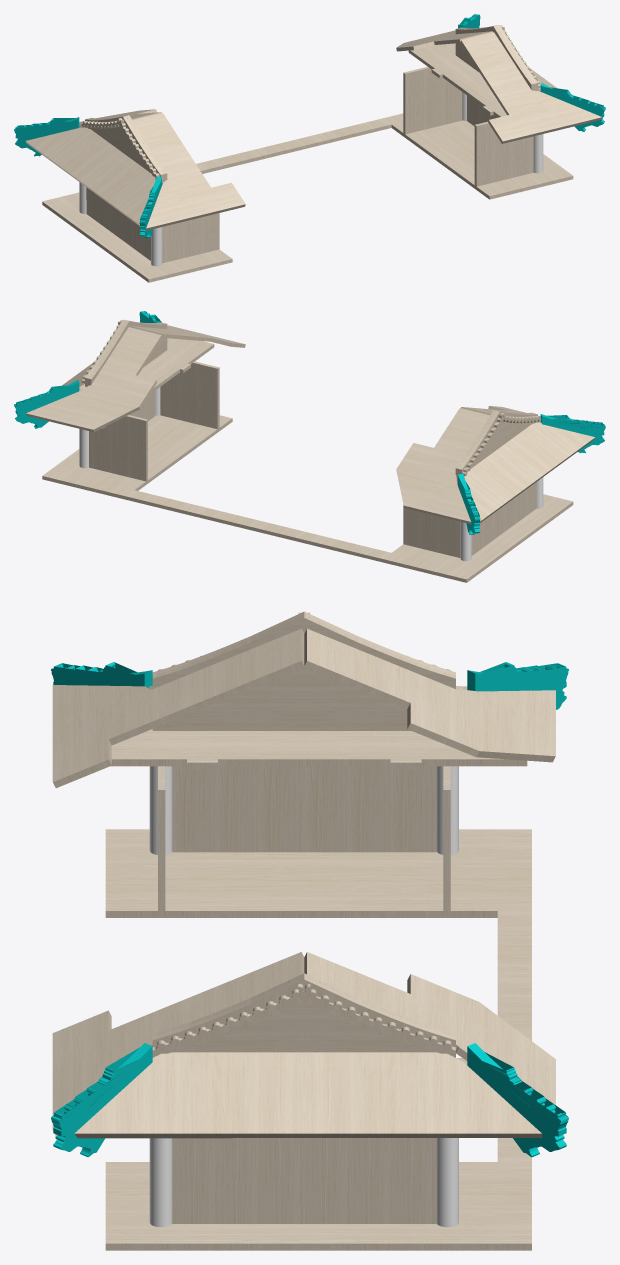
The picture shows the model from 3 angles, top to bottom: view 1: azimuth 30°, elevation 25°; view 2: azimuth 150°, elevation 25°; view 3: azimuth 270°, elevation 25°; orthographic projection. The views are drawn at different scales.
Parts seen in each view (by area): view 1: Mesh111 ___1198_2 ___1293_1 Model, Mesh41 ___1177_1 ___1240_1 ___1287_1 Model, Mesh76 ___1177_2 ___1240_2 ___1287_2 Model, Mesh105 ___1198_1 ___1293_1 Model, Mesh78 ___1174_4 ___1253_2 ___1287_2 Model, Mesh77 ___1174_3 ___1253_2 ___1287_2 Model, Mesh46 ___1186_1 ___1244_1 ___1287_1 Model, Mesh99 ___678_24 ___684_8 ___1134_8 ___1243_4 ___1286_4 Model, Mesh54 ___678_15 ___684_5 ___1134_5 ___1243_3 ___1286_3 Model, Mesh53 ___678_14 ___684_5 ___1134_5 ___1243_3 ___1286_3 Model, Mesh74 ___1230_4 ___1287_2 Model, Mesh37 ___1230_1 ___1287_1 Model (+17 smaller); view 2: Mesh111 ___1198_2 ___1293_1 Model, Mesh40 ___1176_1 ___1240_1 ___1287_1 Model, Mesh105 ___1198_1 ___1293_1 Model, Mesh75 ___1176_2 ___1240_2 ___1287_2 Model, Mesh77 ___1174_3 ___1253_2 ___1287_2 Model, Mesh78 ___1174_4 ___1253_2 ___1287_2 Model, Mesh50 ___1186_2 ___1244_1 ___1287_1 Model, Mesh99 ___678_24 ___684_8 ___1134_8 ___1243_4 ___1286_4 Model, Mesh54 ___678_15 ___684_5 ___1134_5 ___1243_3 ___1286_3 Model, Mesh39 ___1230_2 ___1287_1 Model, Mesh98 ___678_23 ___684_8 ___1134_8 ___1243_4 ___1286_4 Model, Mesh53 ___678_14 ___684_5 ___1134_5 ___1243_3 ___1286_3 Model (+16 smaller); view 3: Mesh105 ___1198_1 ___1293_1 Model, Mesh111 ___1198_2 ___1293_1 Model, Mesh43 ___1174_2 ___1253_1 ___1287_1 Model, Mesh42 ___1174_1 ___1253_1 ___1287_1 Model, Mesh75 ___1176_2 ___1240_2 ___1287_2 Model, Mesh76 ___1177_2 ___1240_2 ___1287_2 Model, Mesh40 ___1176_1 ___1240_1 ___1287_1 Model, Mesh41 ___1177_1 ___1240_1 ___1287_1 Model, Mesh64 __2_dwg_5_4 ___1185_4 ___1211_2 ___1287_2 Model, Mesh85 ___1186_4 ___1244_2 ___1287_2 Model, Mesh59 __2_dwg_5_3 ___1185_3 ___1211_2 ___1287_2 Model, Mesh81 ___1186_3 ___1244_2 ___1287_2 Model (+28 smaller).
Boxes of the visible parts, bbox=[...] form: Mesh111 ___1198_2 ___1293_1 Model: bbox=[255, 113, 573, 199]; Mesh41 ___1177_1 ___1240_1 ___1287_1 Model: bbox=[460, 32, 602, 143]; Mesh76 ___1177_2 ___1240_2 ___1287_2 Model: bbox=[132, 113, 245, 230]; Mesh105 ___1198_1 ___1293_1 Model: bbox=[42, 149, 262, 282]; Mesh78 ___1174_4 ___1253_2 ___1287_2 Model: bbox=[25, 127, 123, 186]; Mesh77 ___1174_3 ___1253_2 ___1287_2 Model: bbox=[85, 153, 155, 225]; Mesh46 ___1186_1 ___1244_1 ___1287_1 Model: bbox=[408, 43, 486, 92]; Mesh99 ___678_24 ___684_8 ___1134_8 ___1243_4 ___1286_4 Model: bbox=[474, 124, 496, 186]; Mesh54 ___678_15 ___684_5 ___1134_5 ___1243_3 ___1286_3 Model: bbox=[403, 70, 424, 134]; Mesh53 ___678_14 ___684_5 ___1134_5 ___1243_3 ___1286_3 Model: bbox=[423, 69, 443, 129]; Mesh74 ___1230_4 ___1287_2 Model: bbox=[14, 117, 79, 156]; Mesh37 ___1230_1 ___1287_1 Model: bbox=[540, 83, 605, 131]; Mesh111 ___1198_2 ___1293_1 Model: bbox=[42, 415, 262, 530]; Mesh40 ___1176_1 ___1240_1 ___1287_1 Model: bbox=[26, 327, 162, 432]; Mesh105 ___1198_1 ___1293_1 Model: bbox=[254, 494, 573, 582]; Mesh75 ___1176_2 ___1240_2 ___1287_2 Model: bbox=[396, 408, 489, 524]; Mesh77 ___1174_3 ___1253_2 ___1287_2 Model: bbox=[499, 422, 594, 481]; Mesh78 ___1174_4 ___1253_2 ___1287_2 Model: bbox=[464, 448, 537, 522]; Mesh50 ___1186_2 ___1244_1 ___1287_1 Model: bbox=[138, 338, 214, 387]; Mesh99 ___678_24 ___684_8 ___1134_8 ___1243_4 ___1286_4 Model: bbox=[197, 365, 219, 429]; Mesh54 ___678_15 ___684_5 ___1134_5 ___1243_3 ___1286_3 Model: bbox=[126, 418, 147, 481]; Mesh39 ___1230_2 ___1287_1 Model: bbox=[14, 380, 79, 428]; Mesh98 ___678_23 ___684_8 ___1134_8 ___1243_4 ___1286_4 Model: bbox=[179, 364, 199, 424]; Mesh53 ___678_14 ___684_5 ___1134_5 ___1243_3 ___1286_3 Model: bbox=[107, 417, 127, 476]; Mesh105 ___1198_1 ___1293_1 Model: bbox=[105, 829, 531, 1036]; Mesh111 ___1198_2 ___1293_1 Model: bbox=[105, 1036, 531, 1250]; Mesh43 ___1174_2 ___1253_1 ___1287_1 Model: bbox=[304, 1052, 542, 1137]; Mesh42 ___1174_1 ___1253_1 ___1287_1 Model: bbox=[74, 1052, 304, 1138]; Mesh75 ___1176_2 ___1240_2 ___1287_2 Model: bbox=[304, 628, 555, 762]; Mesh76 ___1177_2 ___1240_2 ___1287_2 Model: bbox=[52, 628, 304, 788]; Mesh40 ___1176_1 ___1240_1 ___1287_1 Model: bbox=[304, 952, 555, 1104]; Mesh41 ___1177_1 ___1240_1 ___1287_1 Model: bbox=[52, 952, 304, 1135]; Mesh64 __2_dwg_5_4 ___1185_4 ___1211_2 ___1287_2 Model: bbox=[152, 615, 309, 730]; Mesh85 ___1186_4 ___1244_2 ___1287_2 Model: bbox=[111, 729, 304, 769]; Mesh59 __2_dwg_5_3 ___1185_3 ___1211_2 ___1287_2 Model: bbox=[303, 615, 455, 730]; Mesh81 ___1186_3 ___1244_2 ___1287_2 Model: bbox=[304, 731, 527, 769].
Bounding box in the file's own units: 286 × 72.52 × 137.
3 materials, 1 textured.
